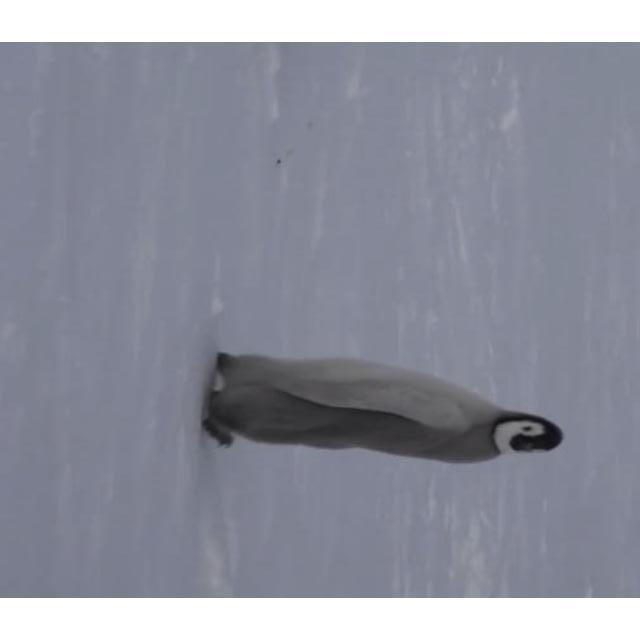penguin: (201, 349, 565, 465)
